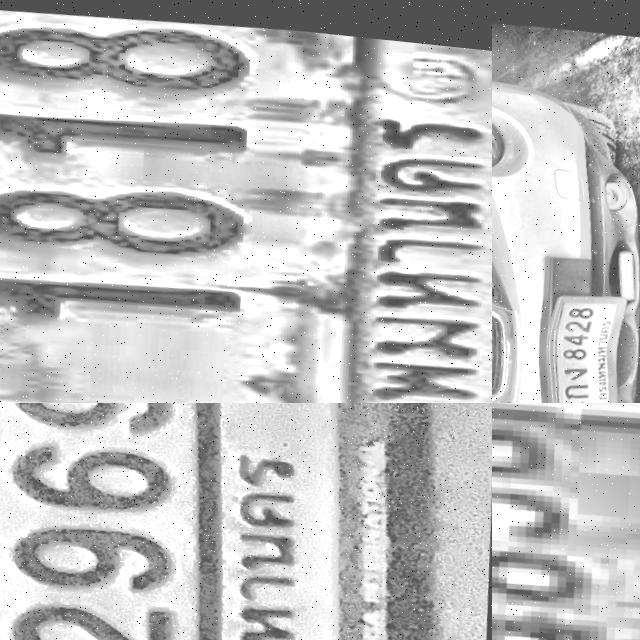license-plate: (0, 0, 492, 403), (0, 403, 470, 640), (492, 403, 640, 640), (545, 279, 634, 403)
